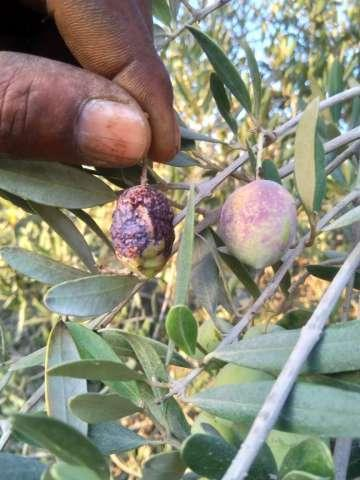Anthracnose: (99, 181, 190, 281)
